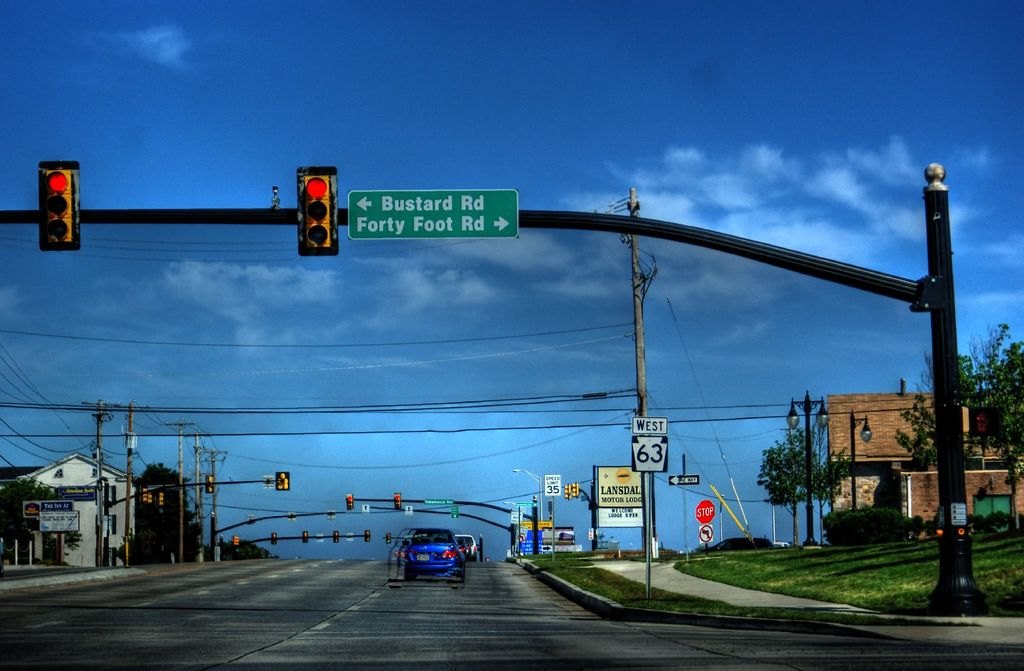red_light: (39, 165, 79, 251), (298, 169, 338, 255), (345, 493, 353, 511), (393, 491, 401, 509)
